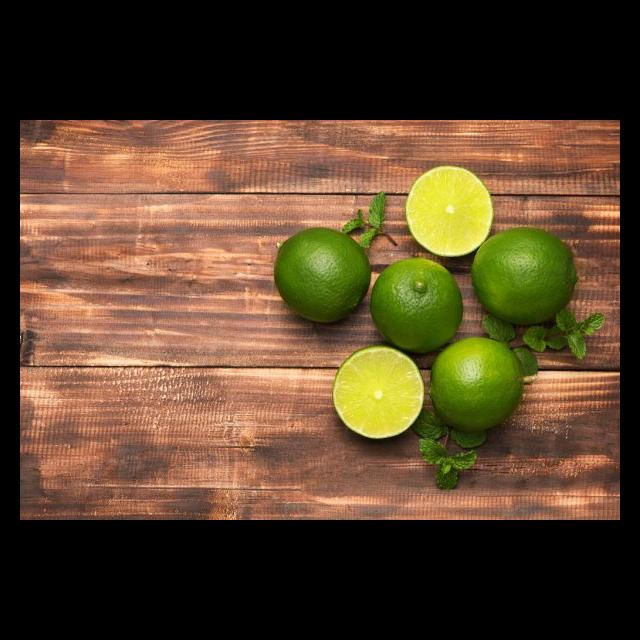lime: (466, 223, 584, 333), (271, 223, 374, 330), (365, 253, 466, 360), (429, 330, 529, 438)
